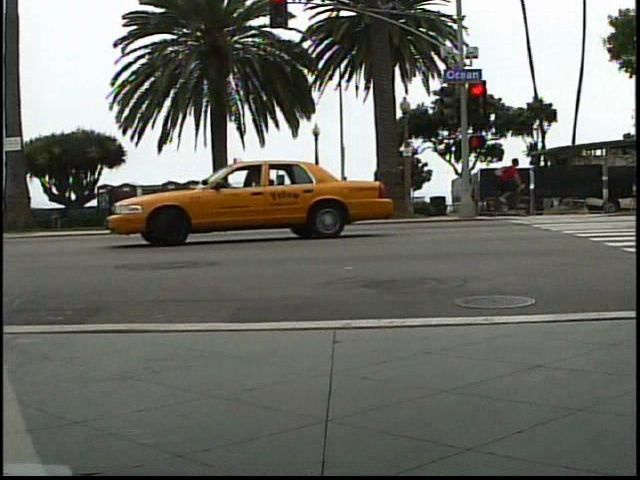person: (491, 156, 521, 210)
